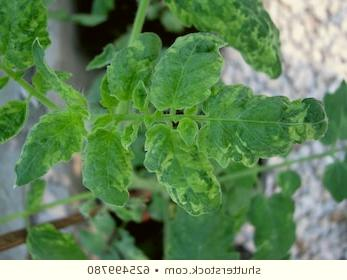Tomato leaf mosaic virus: (190, 82, 332, 168), (144, 120, 221, 218), (141, 29, 224, 116), (14, 105, 93, 188), (80, 126, 133, 218)
